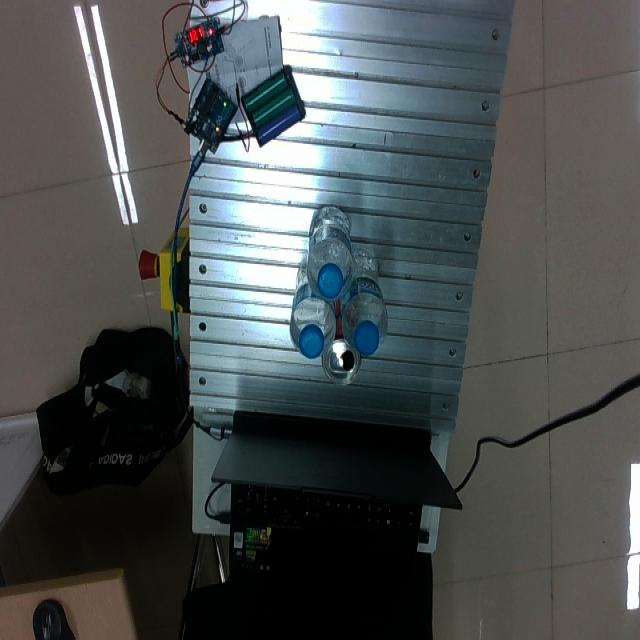coca: (321, 303, 362, 385)
lavie: (340, 249, 388, 356), (306, 208, 355, 301), (290, 262, 336, 358)
